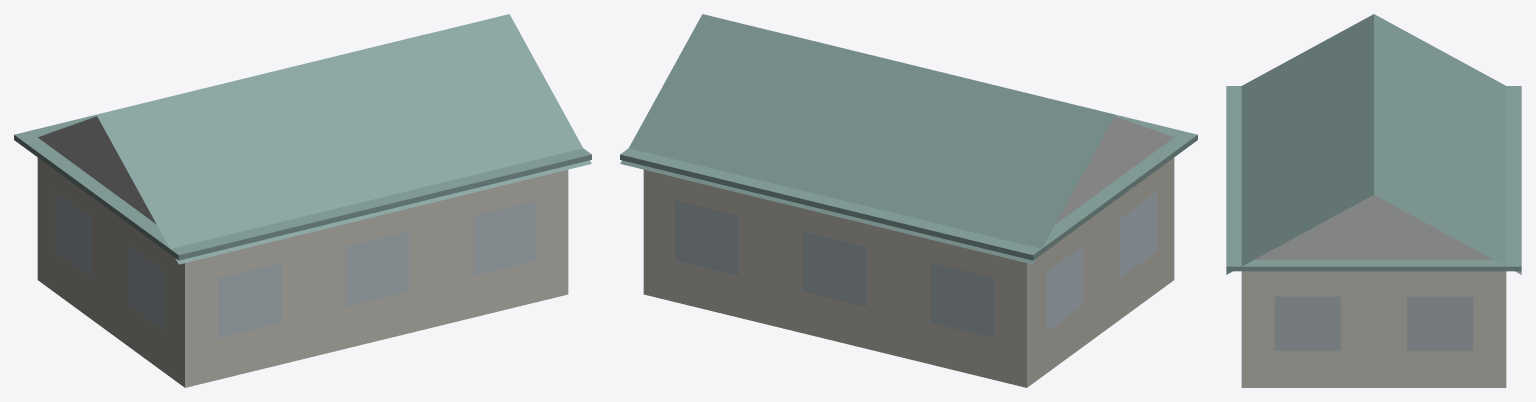
The model's file is 10_traditional_houses-05.glb.
The picture shows the model from 3 angles, left to right: view 1: azimuth 30°, elevation 25°; view 2: azimuth 150°, elevation 25°; view 3: azimuth 270°, elevation 25°; orthographic projection. The views are drawn at different scales.
Size of the model in its own units: 9.7 by 5 by 6.7.
